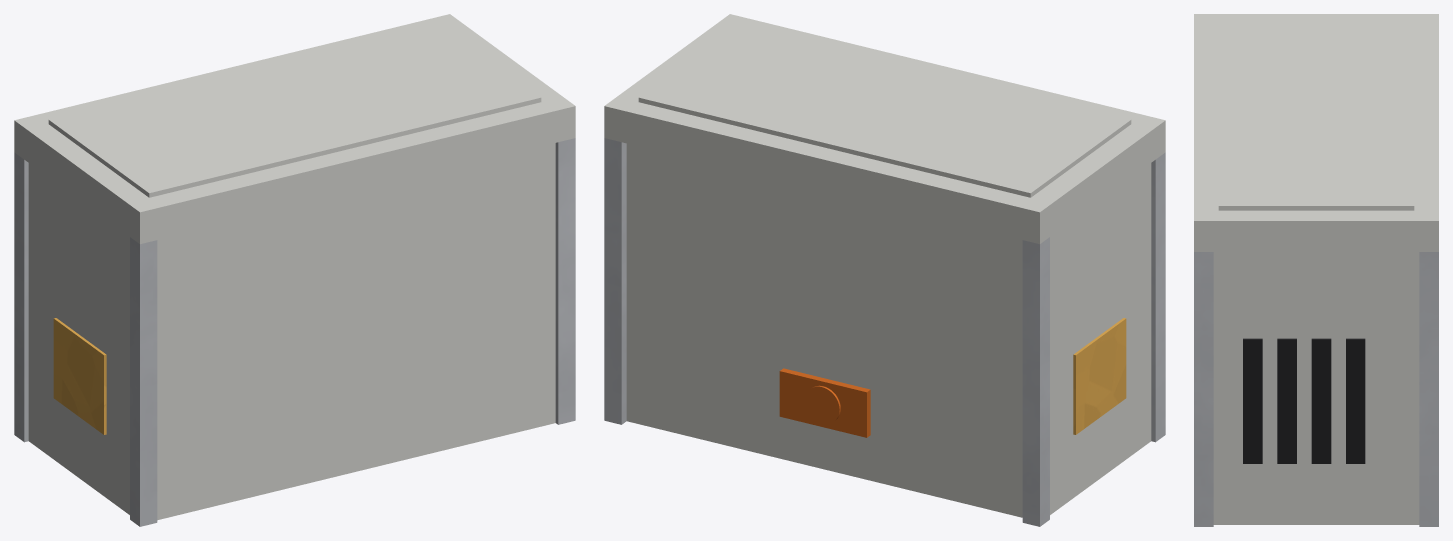
The model's file is rover26_battery_bay_s.glb.
3 renders of one model, left to right at view 1: azimuth 30°, elevation 25°; view 2: azimuth 150°, elevation 25°; view 3: azimuth 270°, elevation 25°, orthographic. The views are drawn at different scales.
Visible parts, largest first — view 1: body, lid, frame, gold_label; view 2: body, lid, frame, port_connector, gold_label; view 3: lid, body, frame, vents.
Boxes of the visible parts, x1=… form: body: x1=28, y1=143, x2=555, y2=520; lid: x1=14, y1=14, x2=575, y2=244; frame: x1=14, y1=138, x2=575, y2=526; gold_label: x1=53, y1=318, x2=106, y2=434; body: x1=626, y1=143, x2=1151, y2=517; lid: x1=604, y1=14, x2=1165, y2=244; frame: x1=604, y1=138, x2=1165, y2=526; port_connector: x1=779, y1=368, x2=870, y2=437; gold_label: x1=1073, y1=318, x2=1126, y2=434; lid: x1=1194, y1=14, x2=1438, y2=251; body: x1=1213, y1=252, x2=1419, y2=524; frame: x1=1194, y1=252, x2=1438, y2=526; vents: x1=1243, y1=338, x2=1365, y2=463.
Size of the model in its own units: 1 by 0.7 by 0.5.
5 materials, 2 textured.
